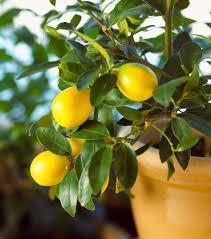lemon: (52, 85, 94, 128), (117, 62, 158, 101), (30, 151, 71, 186), (67, 138, 85, 156)
